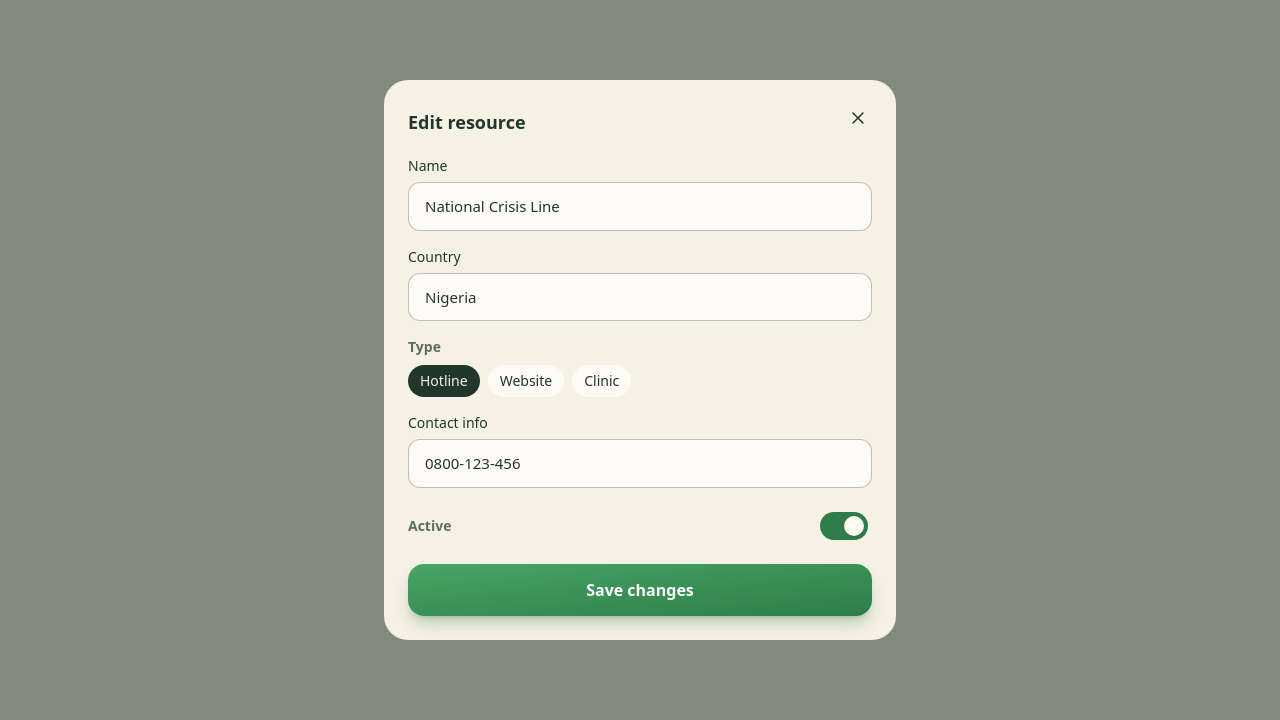
it: AdminEmergencyResourceSheet › re-disables submit when a required field is cleared in edit mode
Expected: the button "Save changes" is enabled, [408,564,872,616]
Clear the field labelled "Country": (640, 297) [408,273,872,321]
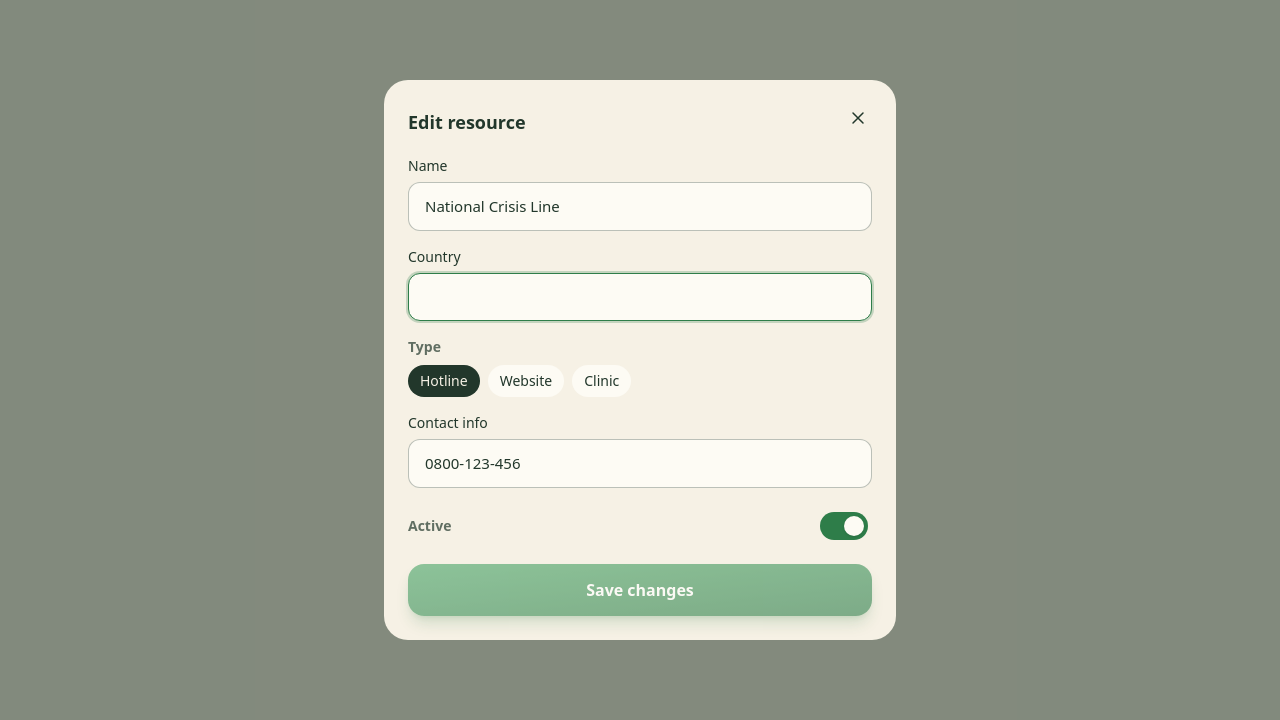
Expected: the button "Save changes" is disabled, [408,564,872,616]
